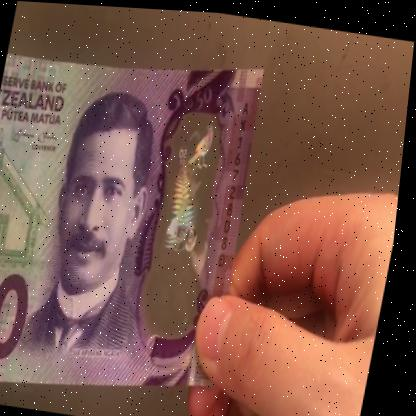50F: (147, 112, 230, 318)
